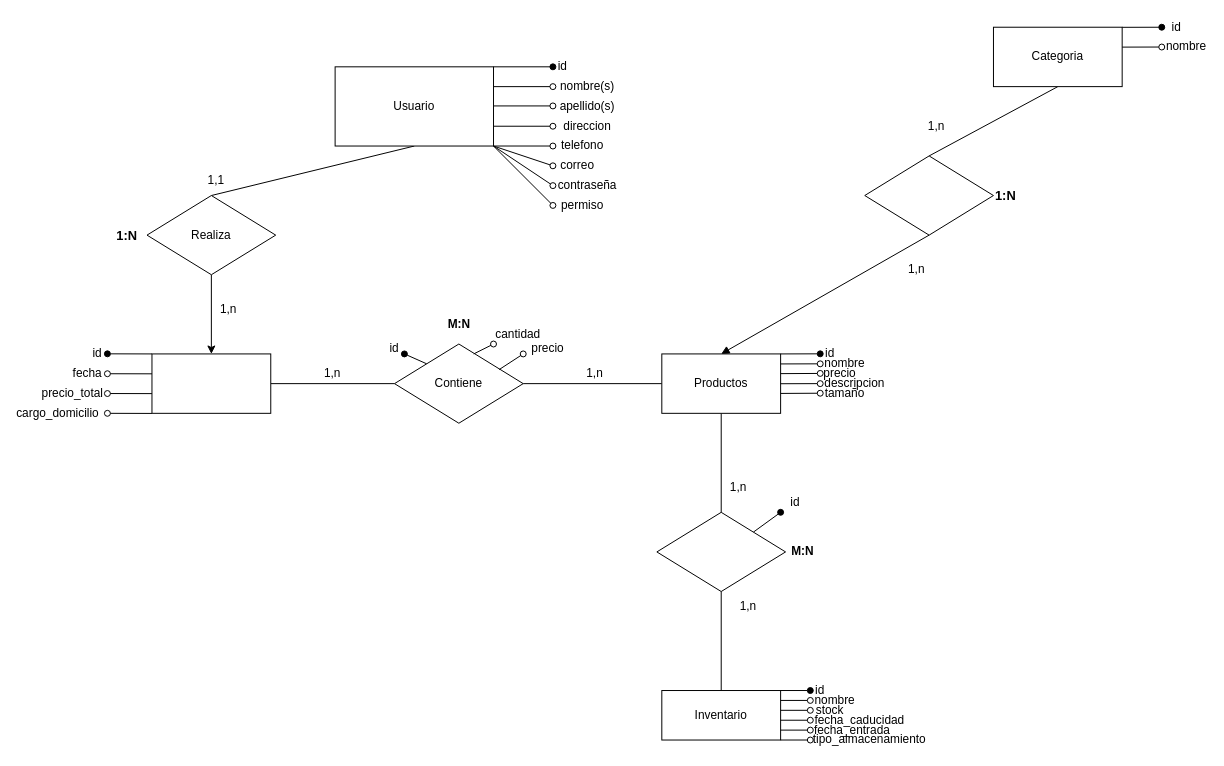
This 1224x766 diagram has some shape labels left out. The shapes that lost their labels are listed below. From the top down, each one's centre as x and y in pixels, then its label:
At (x=928, y=195): "Pertenece".
At (x=211, y=383): "Pedido".
At (x=721, y=551): "Kit".
